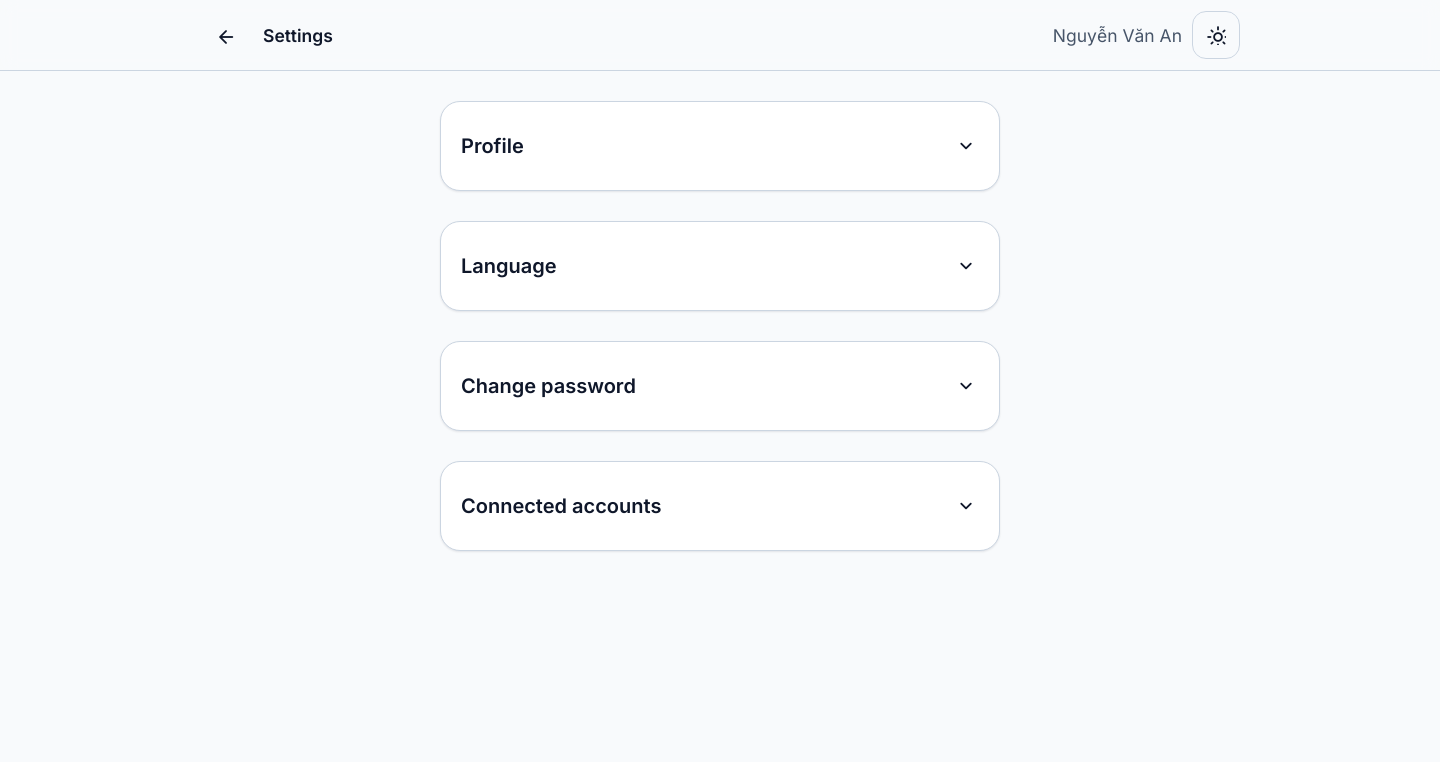
SettingsPage teacher password change › changes the password and clears all password fields
Click the button with aria-label "Change password settings" at (548, 386), box 461,362 -> 979,410
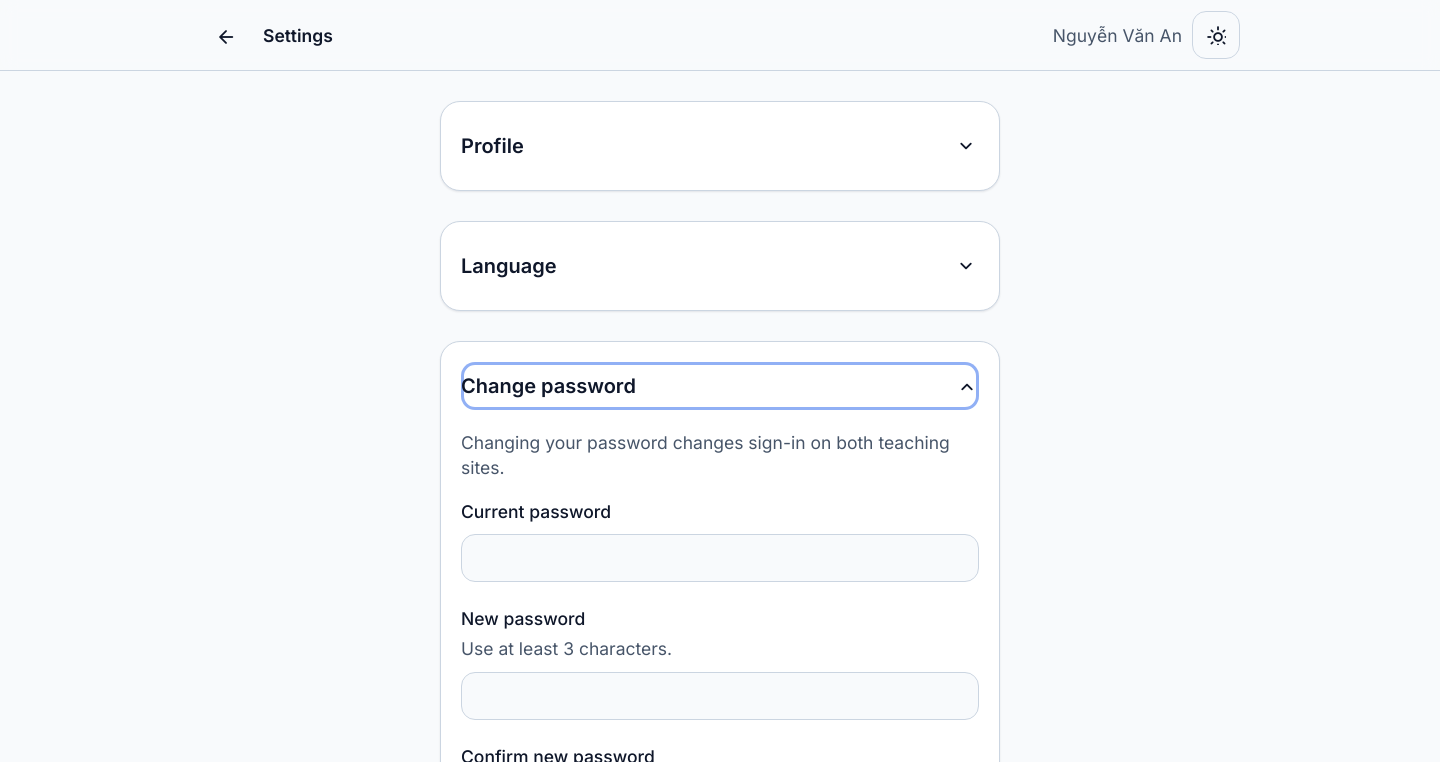
Type "123" into the password field labelled "Current password" at (720, 558), box 461,534 -> 979,582
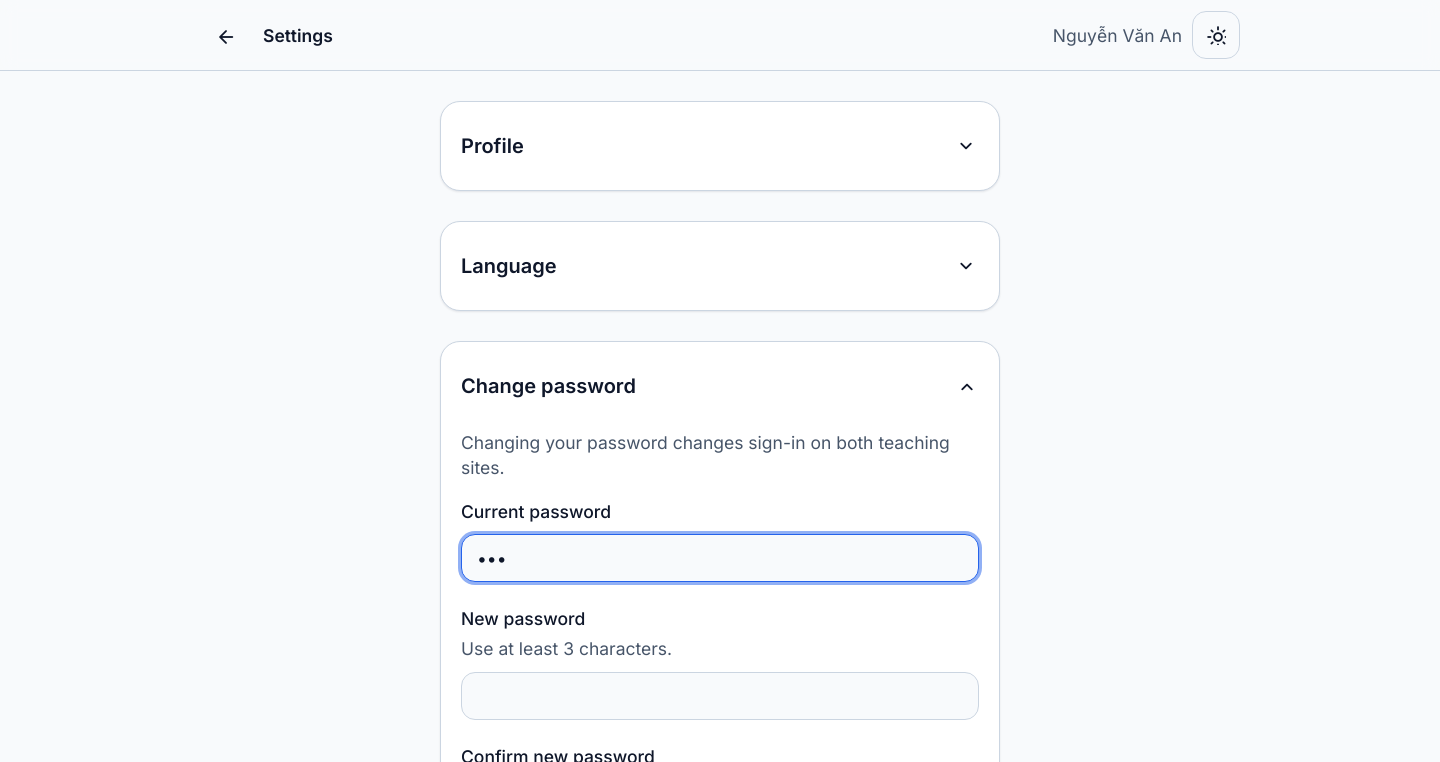
Type "new-password" into the password field labelled "New password" at (720, 696), box 461,672 -> 979,720
(page scrolled)
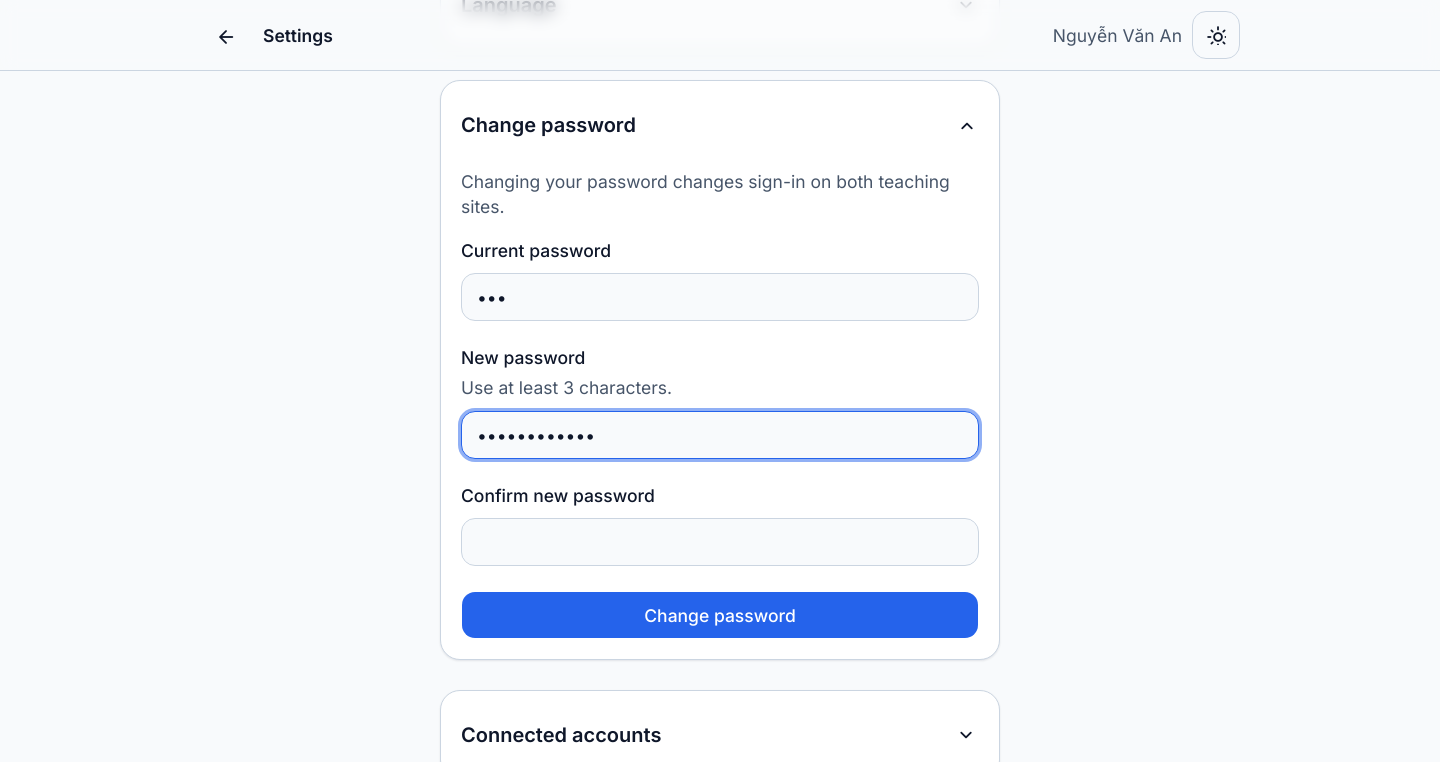
Type "new-password" into the password field labelled "Confirm new password" at (720, 542), box 461,518 -> 979,566
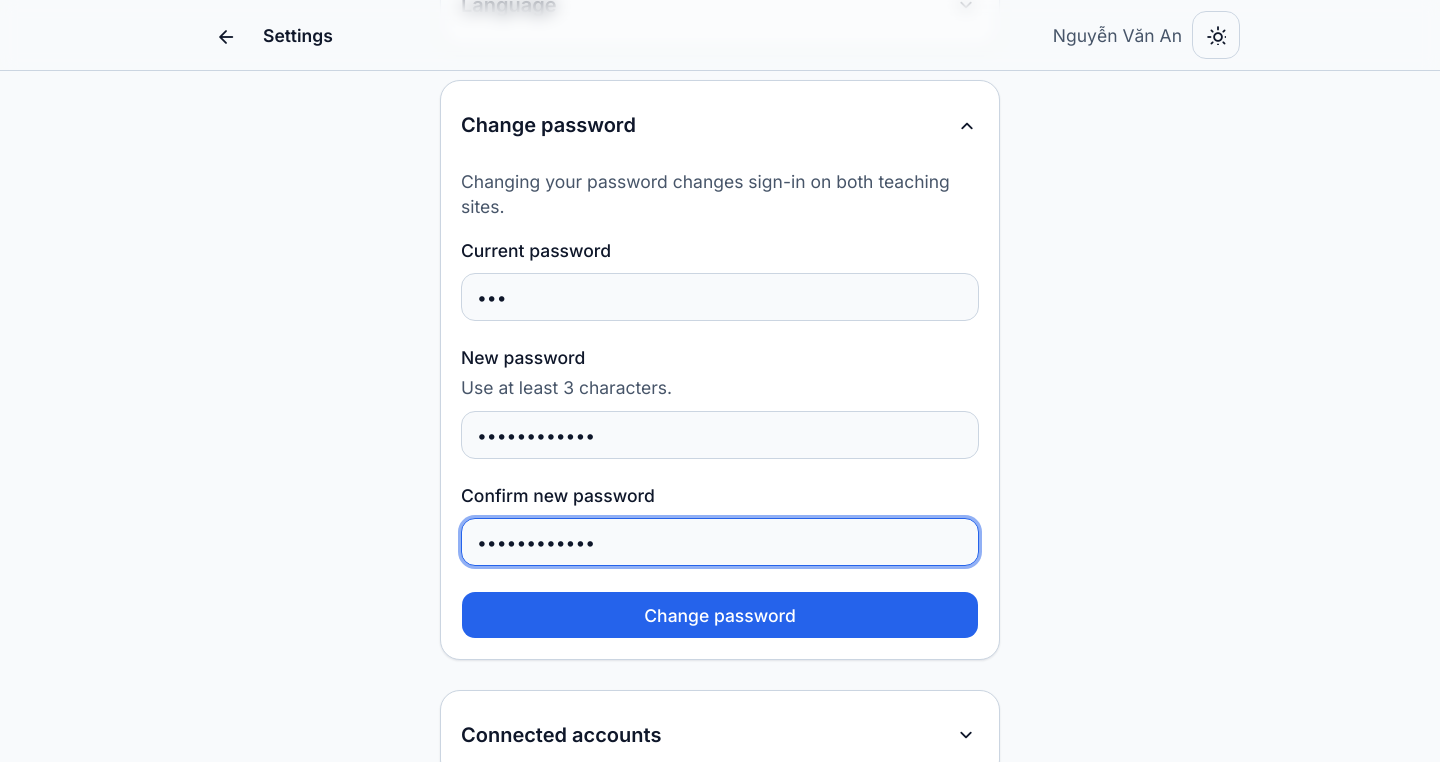
Click the button "Change password" below "Confirm new password" at (720, 615), box 461,591 -> 979,639
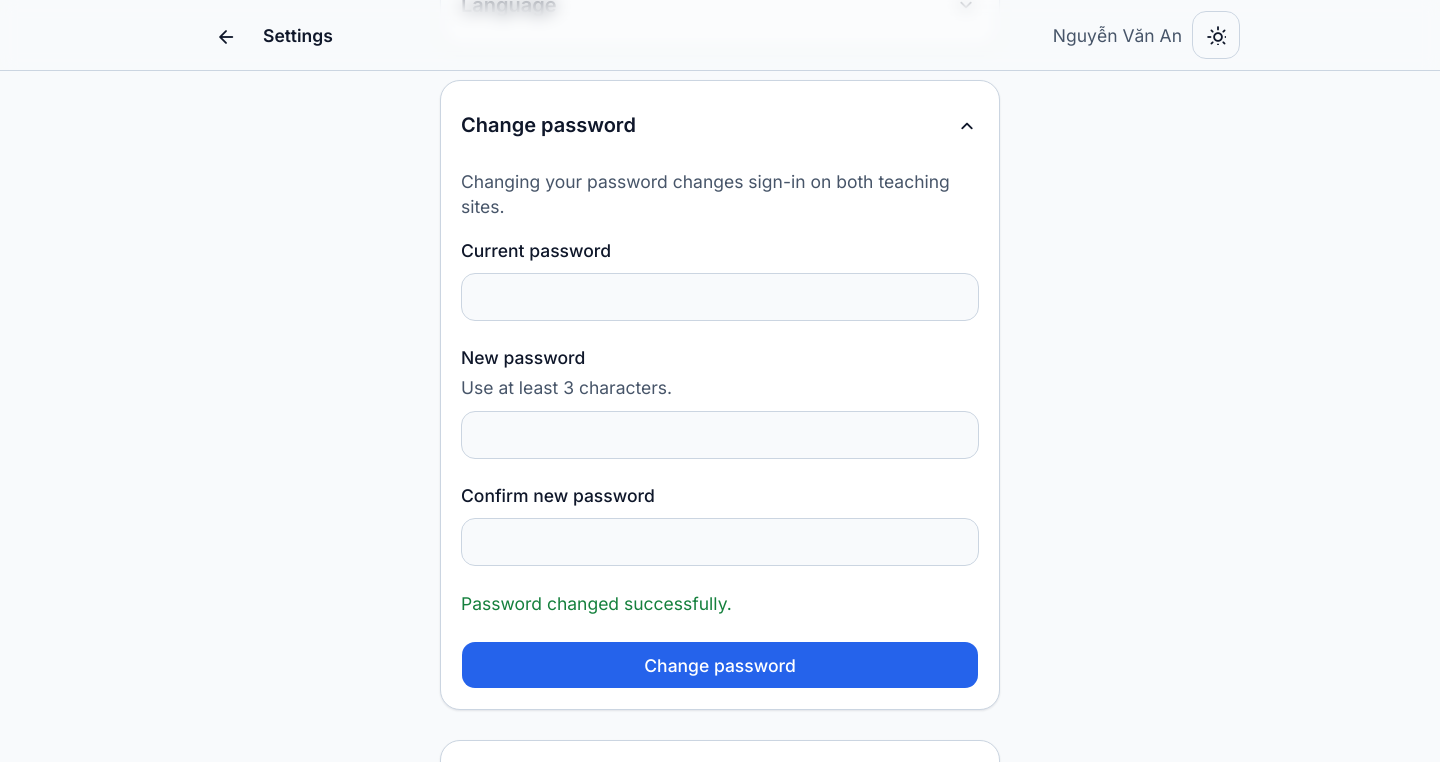
Expected: the text "Password changed successfully." is shown, 461,593 -> 732,614
Expected: the password field labelled "Current password" is empty, 461,273 -> 979,321
Expected: the password field labelled "New password" is empty, 461,411 -> 979,459
